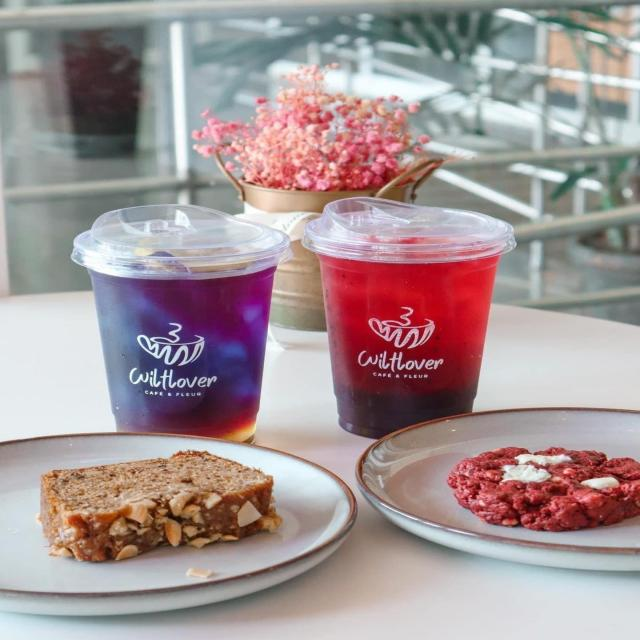cup-disposable: (300, 193, 521, 444), (72, 201, 296, 448)
